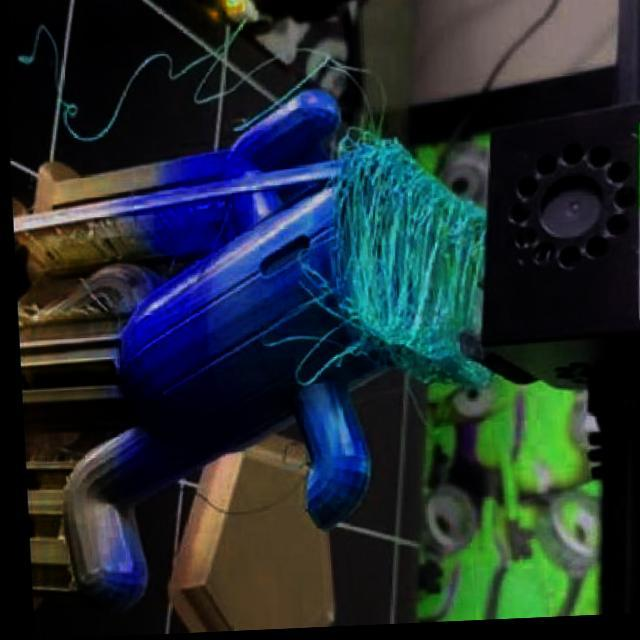spaghetti: (248, 122, 494, 401), (14, 11, 387, 144)
